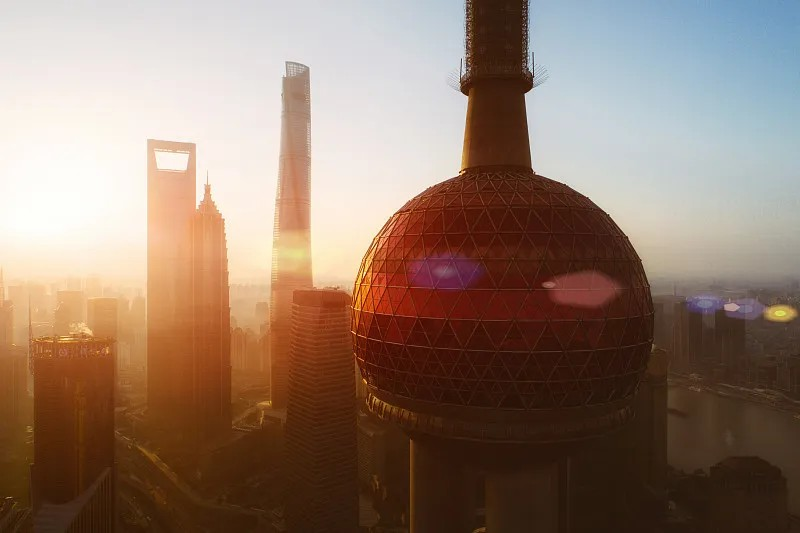Oriental: (351, 3, 656, 531)
